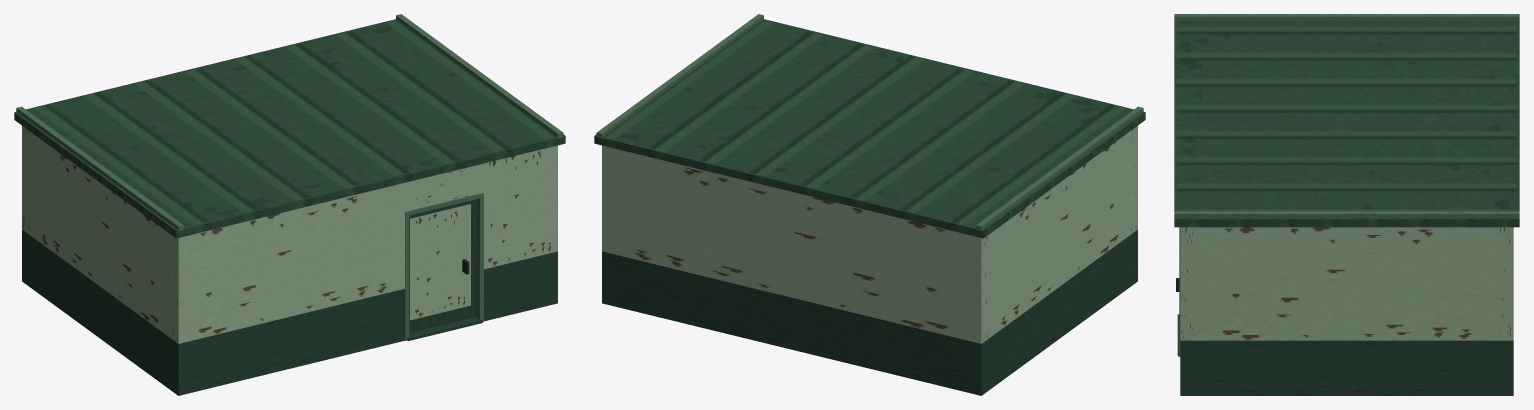
The model's file is UtilityAnnex.fbx.
The picture shows the model from 3 angles, left to right: view 1: azimuth 30°, elevation 25°; view 2: azimuth 150°, elevation 25°; view 3: azimuth 270°, elevation 25°; orthographic projection. The views are drawn at different scales.
Visible parts, largest first — view 1: UtilityAnnex; view 2: UtilityAnnex; view 3: UtilityAnnex.
Boxes of the visible parts, <box> form: UtilityAnnex: <box>14,14,565,395</box>; UtilityAnnex: <box>594,14,1145,395</box>; UtilityAnnex: <box>1174,14,1519,395</box>.
Size of the model in its own units: 862 by 364 by 622.
